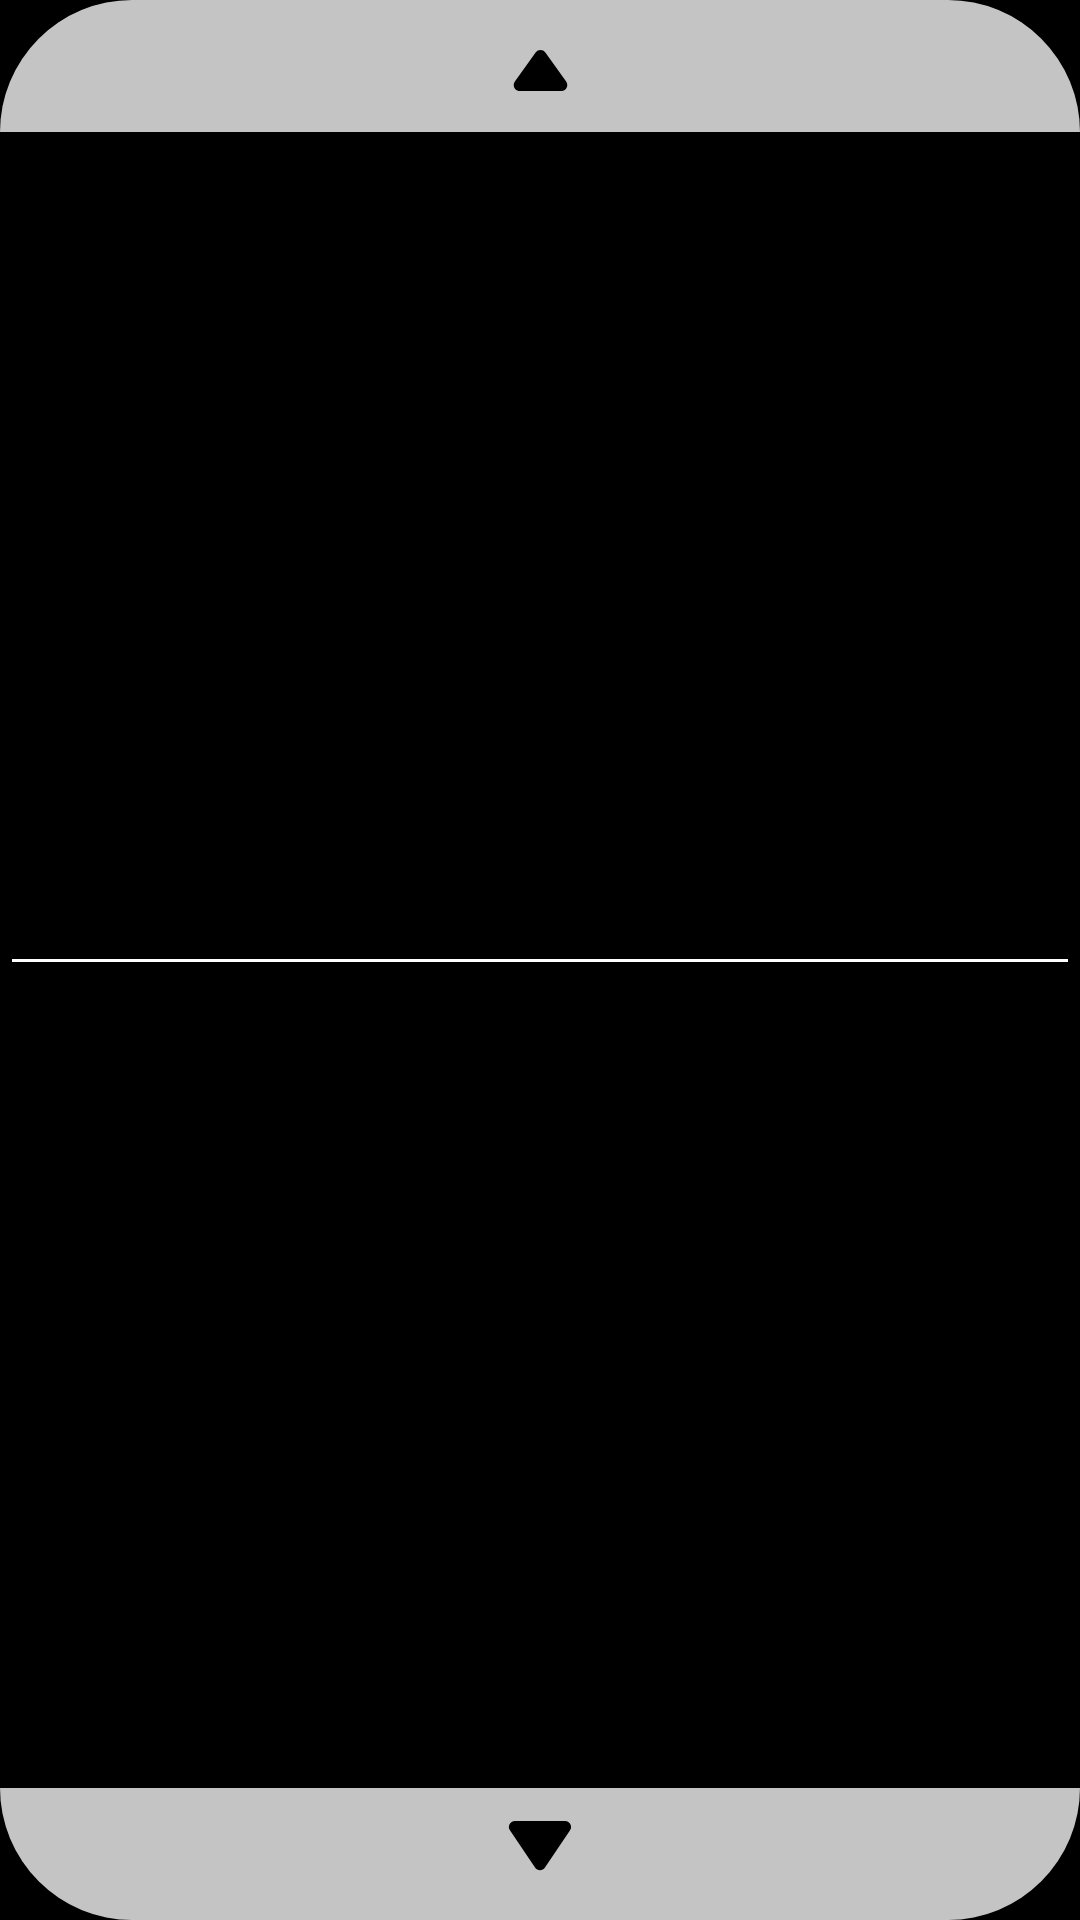

Named icons in this screenshot (1080×1920) and their centers, (x=x, y=y):
triangle down: (x=540, y=1846)
triangle up: (x=540, y=70)
